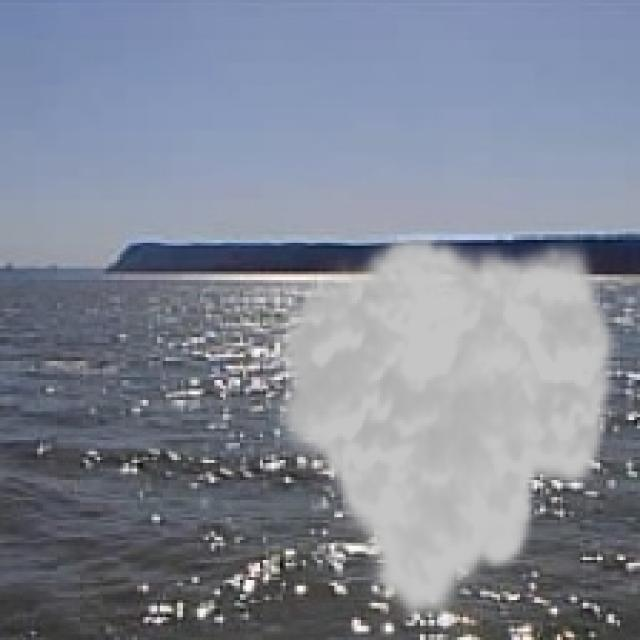smoke: (266, 228, 623, 628)
